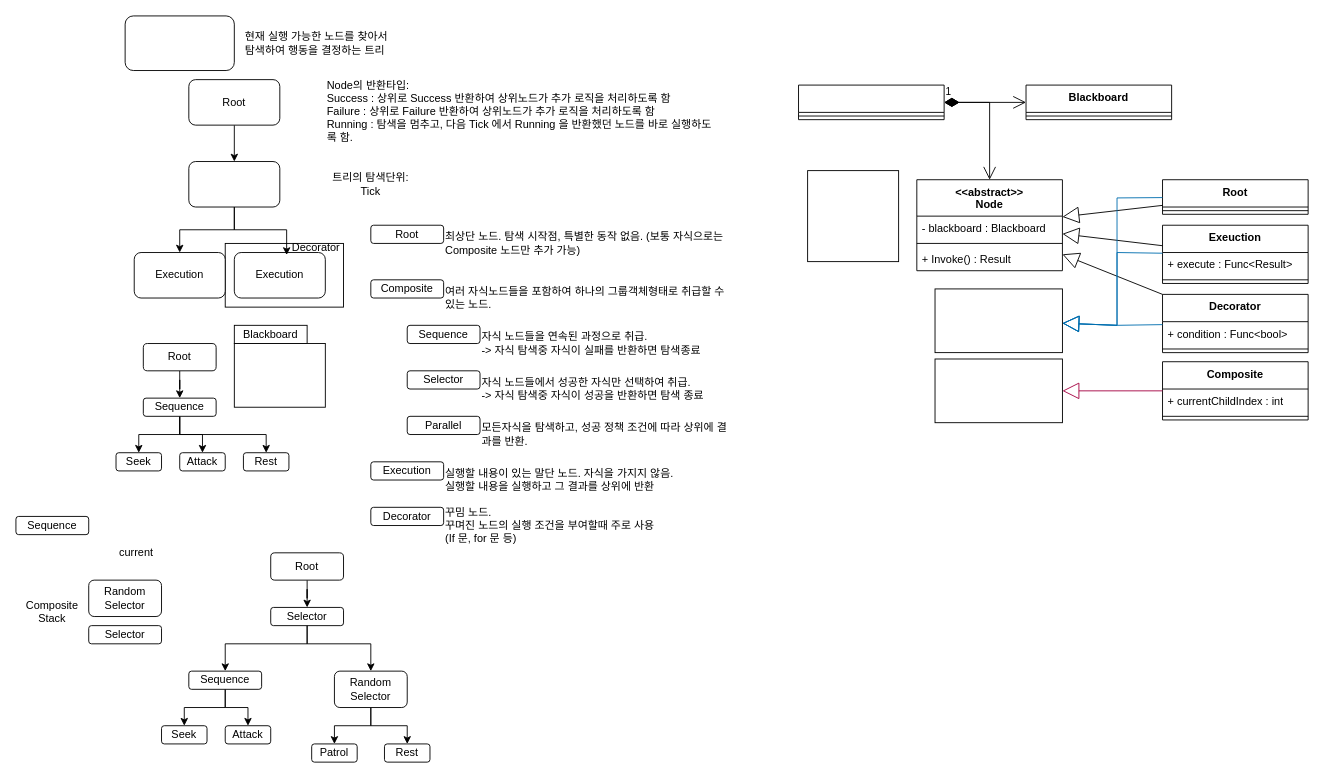
The diagram is 1324 pixels wide and 778 high, and some of its shapes have lost their labels. Here are the shapes that lost their labels. From the top down, the centre of each, then its label:
At point (179, 43): "행동 트리 (Behaviour tree)".
At point (871, 102): "Tree".
At point (234, 184): "Control flow (Composite)".
At point (853, 216): "«enum» Result Success Failure Running".
At point (998, 320): "«interface» IParentOfChild {get, set} child : Node".
At point (279, 375): "target : ??".
At point (998, 390): "«interface» IParentOfChildren {get, set} children : List<Node>".
